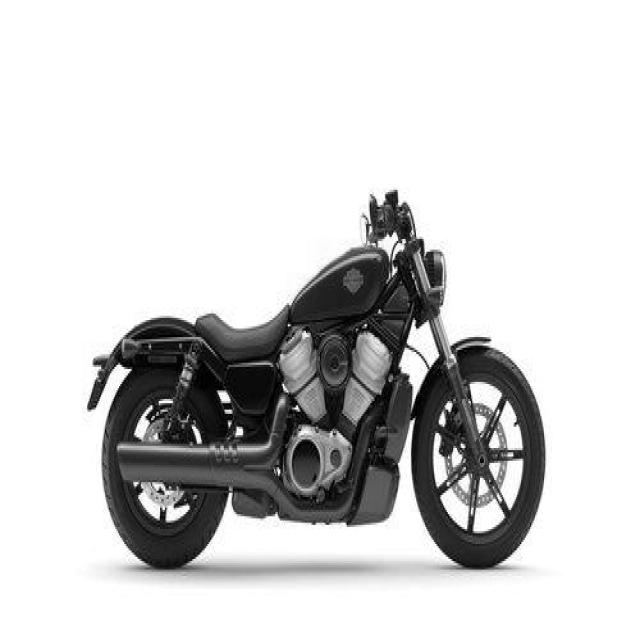Motorcycle: (87, 190, 547, 568)
